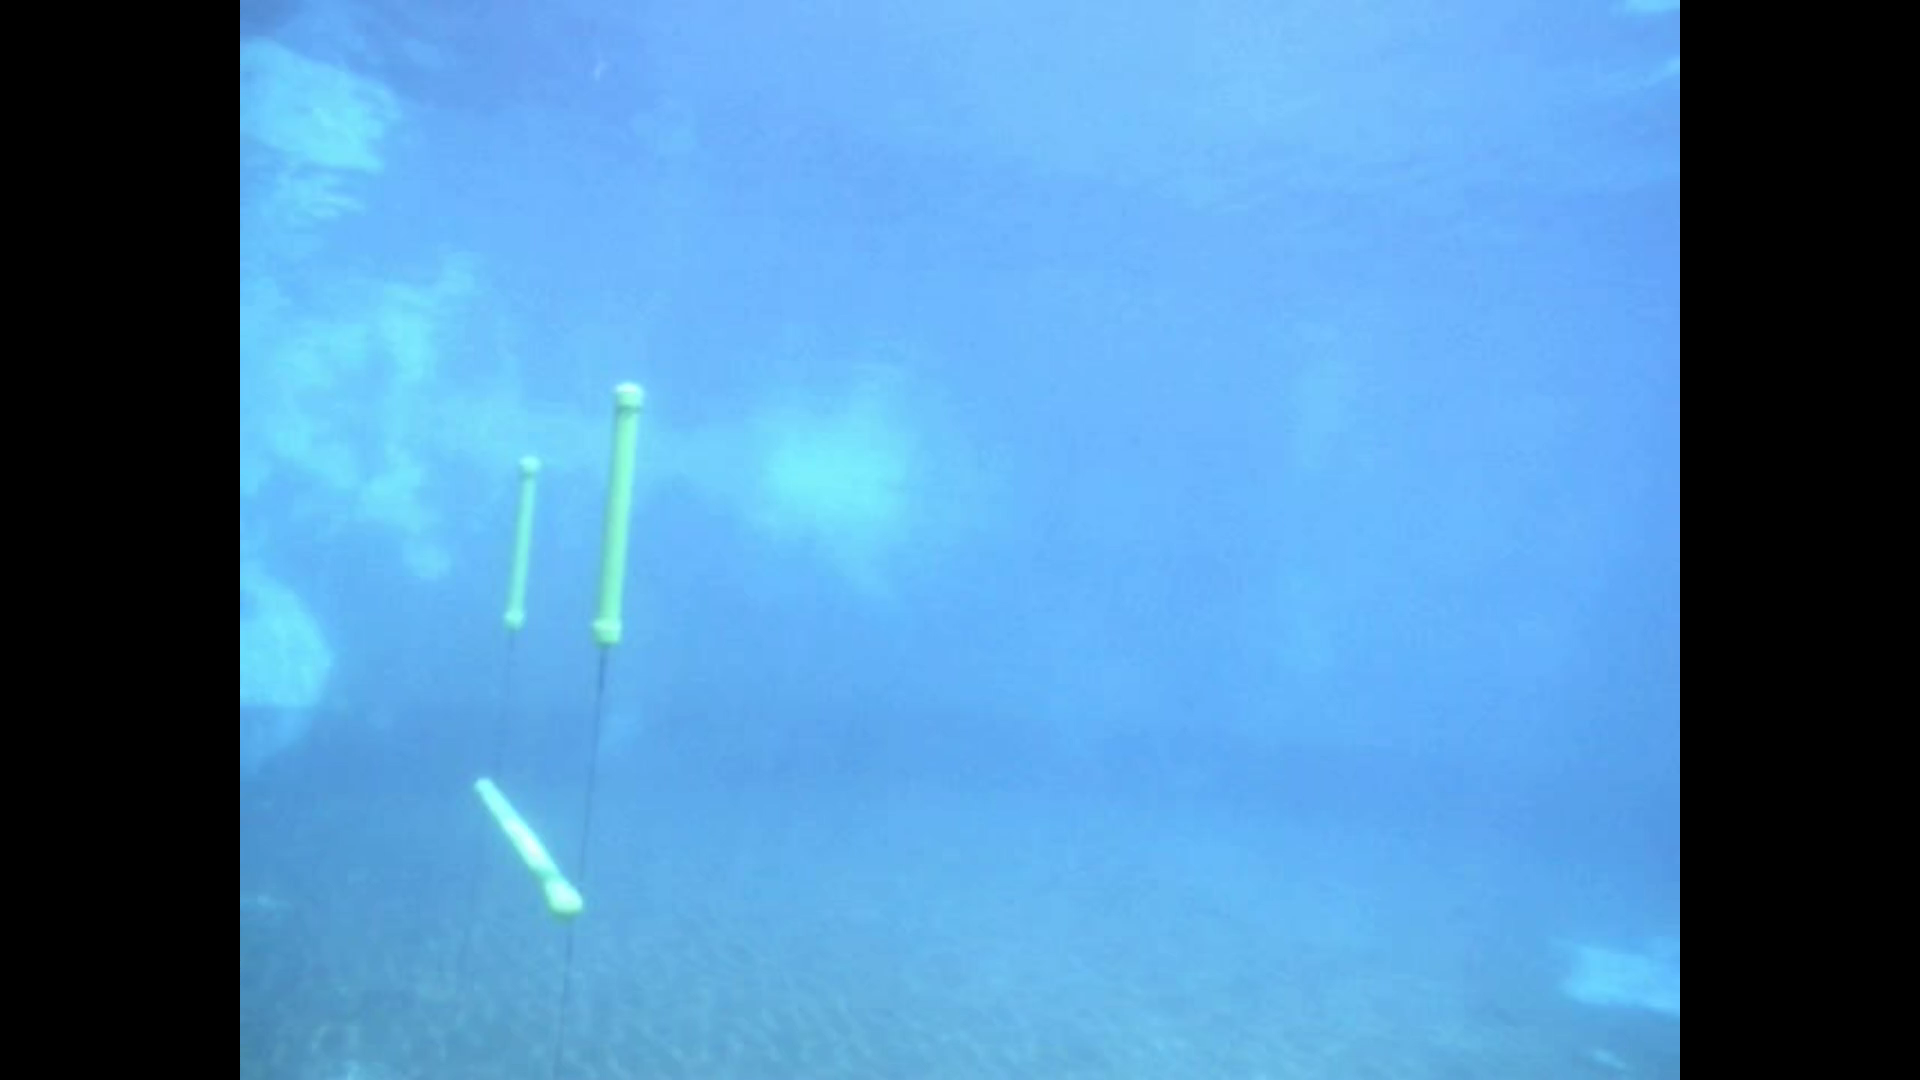gate: (473, 376, 646, 944)
